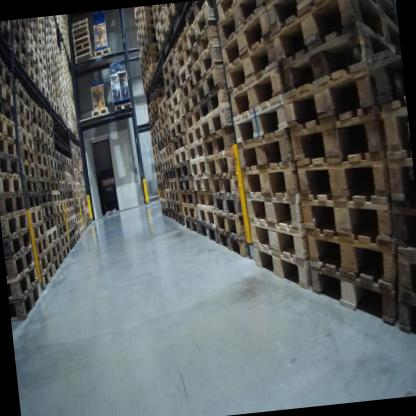pallet: (274, 25, 390, 107), (266, 0, 398, 66), (270, 0, 399, 67), (302, 219, 403, 300), (308, 251, 402, 334), (280, 56, 379, 129), (300, 187, 399, 256), (285, 108, 392, 162), (296, 151, 396, 201), (221, 27, 286, 95), (246, 201, 307, 272), (216, 0, 275, 73), (225, 66, 286, 126), (227, 89, 289, 148), (257, 240, 311, 295), (242, 184, 304, 231), (236, 160, 295, 209), (217, 0, 274, 46), (233, 123, 293, 166), (375, 93, 408, 161), (375, 50, 407, 116), (391, 190, 416, 264), (8, 280, 45, 326), (390, 237, 416, 302), (183, 1, 223, 42), (387, 150, 415, 207), (193, 62, 232, 102), (198, 83, 237, 121), (189, 42, 226, 82), (199, 101, 236, 140), (190, 21, 223, 63), (216, 229, 255, 264), (6, 263, 39, 303), (213, 206, 248, 243), (199, 128, 239, 159), (2, 225, 35, 262), (5, 243, 36, 280), (396, 289, 416, 346), (202, 151, 242, 179), (0, 208, 32, 240), (210, 175, 245, 203), (211, 190, 242, 218), (159, 45, 185, 77), (0, 132, 21, 171), (11, 37, 31, 77), (0, 191, 26, 221), (179, 86, 201, 121), (0, 166, 24, 198), (161, 2, 186, 32), (195, 199, 217, 233), (0, 104, 18, 145), (144, 60, 172, 86), (0, 148, 22, 179), (175, 55, 196, 87), (13, 75, 32, 110), (189, 170, 212, 197), (183, 121, 204, 150), (23, 94, 44, 123), (150, 9, 169, 41), (0, 83, 15, 123), (0, 47, 15, 87), (179, 74, 201, 101), (153, 21, 171, 54), (167, 104, 189, 130), (174, 45, 193, 75), (14, 107, 33, 137), (26, 215, 46, 243), (20, 139, 38, 170), (186, 2, 208, 27), (215, 0, 245, 18), (200, 214, 218, 244), (182, 215, 202, 241), (163, 77, 183, 102), (26, 29, 42, 60), (14, 29, 30, 60), (14, 20, 30, 51), (170, 132, 191, 155), (161, 62, 180, 87), (34, 248, 53, 273), (182, 106, 200, 132), (189, 155, 209, 178), (174, 29, 191, 56), (15, 96, 31, 124), (0, 20, 14, 52), (195, 187, 215, 209), (185, 140, 204, 163), (180, 199, 198, 222), (142, 40, 160, 63), (0, 69, 12, 103), (26, 201, 43, 225), (28, 64, 42, 93), (170, 145, 190, 165), (19, 125, 35, 150), (166, 91, 184, 113), (27, 54, 41, 82), (39, 265, 55, 289), (31, 158, 50, 177), (144, 55, 164, 73), (38, 79, 51, 106), (44, 226, 59, 249), (176, 175, 195, 193), (33, 150, 50, 170), (28, 40, 39, 70), (19, 159, 37, 177), (138, 9, 155, 28), (29, 121, 45, 141), (157, 94, 169, 120), (52, 250, 66, 272), (169, 120, 185, 139), (139, 18, 158, 34), (35, 234, 49, 255), (49, 239, 63, 260), (175, 160, 192, 177), (23, 193, 41, 209), (35, 175, 51, 193), (28, 111, 44, 129), (42, 108, 54, 132), (93, 45, 111, 61), (22, 175, 37, 194), (27, 23, 39, 46), (38, 59, 49, 84), (43, 214, 57, 233), (166, 174, 180, 193), (38, 40, 49, 64), (177, 187, 193, 203), (142, 35, 157, 52), (140, 26, 155, 43), (52, 211, 66, 229), (54, 220, 68, 238), (32, 140, 47, 156), (30, 18, 42, 38), (38, 189, 52, 206), (43, 132, 56, 150), (47, 175, 60, 193), (91, 104, 109, 117), (39, 67, 49, 90), (164, 143, 176, 162), (45, 75, 57, 94), (40, 203, 55, 218), (0, 21, 16, 35), (151, 5, 163, 23), (72, 40, 90, 52), (72, 35, 90, 47), (38, 32, 47, 56), (159, 109, 170, 128), (161, 120, 172, 139), (45, 43, 54, 66), (46, 153, 58, 170), (72, 29, 89, 41), (51, 144, 62, 162), (173, 209, 184, 227), (71, 24, 89, 35), (39, 51, 48, 73), (51, 200, 64, 215), (45, 143, 57, 159), (166, 155, 178, 171), (60, 242, 71, 259), (72, 17, 89, 28), (46, 119, 55, 139), (60, 230, 70, 248), (166, 164, 178, 179), (73, 53, 93, 62), (72, 48, 90, 58), (162, 131, 173, 147), (46, 59, 55, 78), (169, 188, 179, 205), (46, 166, 58, 180), (49, 96, 58, 114), (45, 28, 54, 46), (66, 227, 76, 243), (38, 22, 45, 44), (173, 198, 182, 215), (56, 166, 66, 181), (136, 7, 151, 17), (49, 86, 58, 102), (45, 71, 54, 87), (44, 36, 53, 51), (50, 192, 61, 204), (45, 54, 53, 70), (68, 236, 77, 250), (62, 197, 70, 212), (44, 17, 51, 33), (65, 220, 74, 232), (64, 208, 72, 221), (59, 179, 67, 192), (55, 160, 62, 171), (61, 192, 68, 199)
